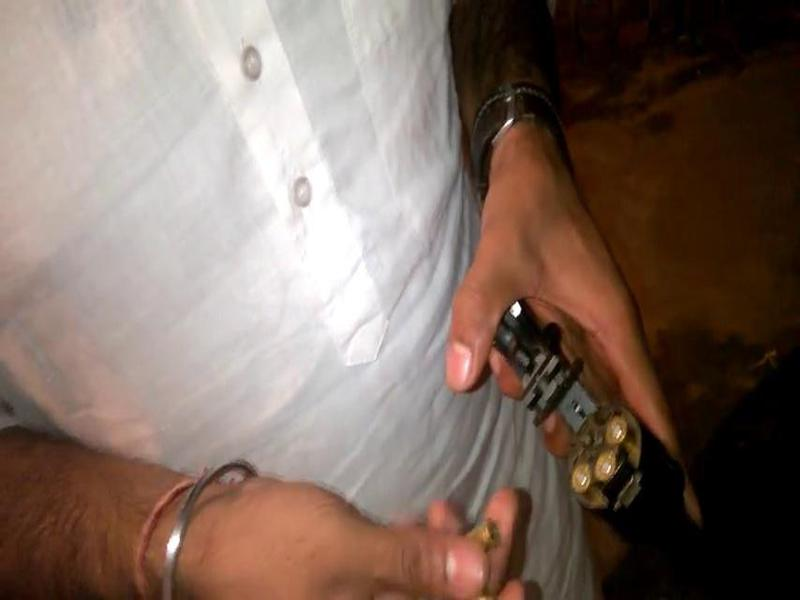Revolver: (420, 283, 747, 599)
